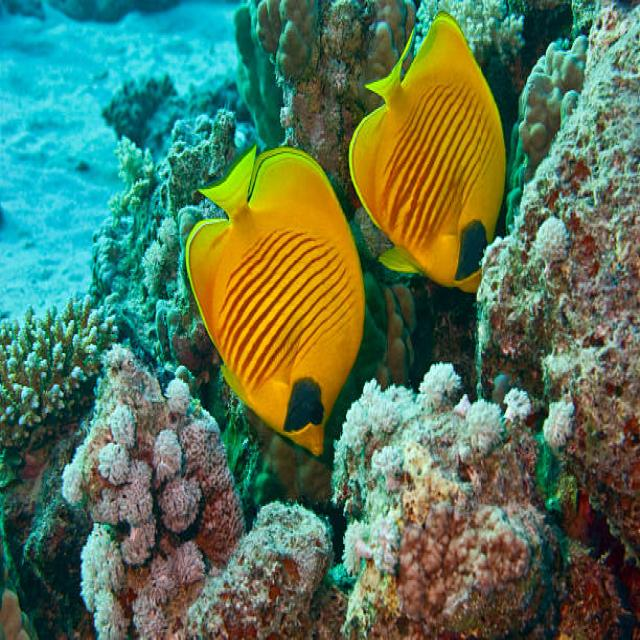ButterflyFish: (182, 146, 365, 455), (347, 9, 511, 284)
